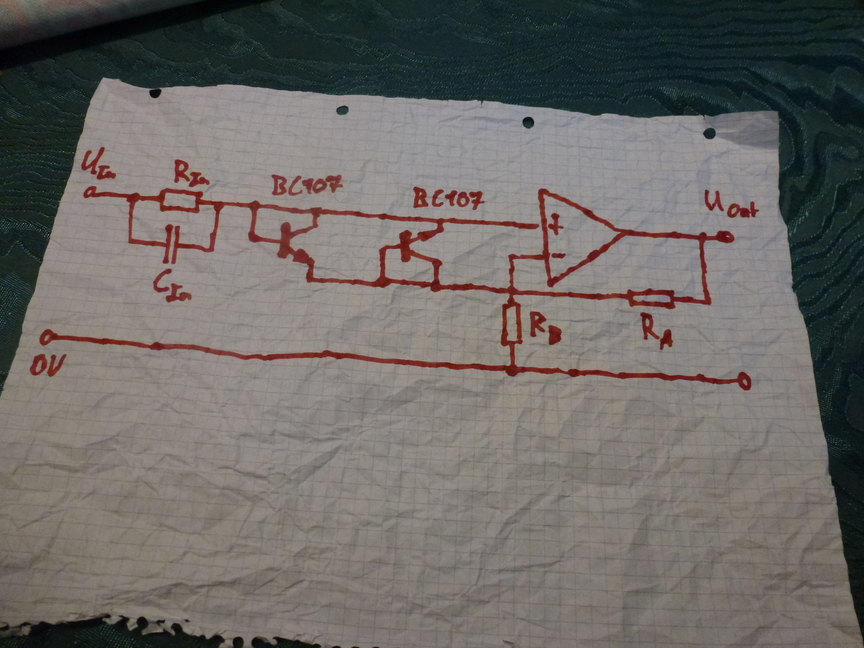capacitor.unpolarized: (156, 223, 186, 266)
junction: (428, 277, 445, 295), (504, 362, 521, 379), (373, 274, 391, 290), (125, 190, 141, 206), (246, 229, 261, 246), (247, 197, 262, 213), (211, 197, 225, 214), (695, 229, 709, 245), (303, 273, 320, 286), (504, 283, 519, 297), (308, 205, 323, 218), (700, 295, 715, 308), (505, 251, 521, 263), (376, 243, 391, 255), (124, 235, 137, 248), (205, 244, 218, 256), (436, 215, 447, 226)
operational_amplifier: (535, 186, 629, 289)
resistor: (624, 285, 677, 312), (155, 187, 206, 215), (498, 300, 526, 349)
terminal: (734, 369, 755, 393), (714, 228, 736, 246), (37, 327, 56, 347), (81, 184, 98, 201)
text: (411, 185, 487, 212), (702, 187, 760, 221), (269, 172, 344, 197), (151, 267, 195, 305), (638, 310, 675, 352), (79, 145, 118, 182), (527, 309, 564, 347), (172, 157, 212, 188), (28, 352, 68, 379)
transistor: (276, 221, 320, 269), (398, 226, 445, 269)
